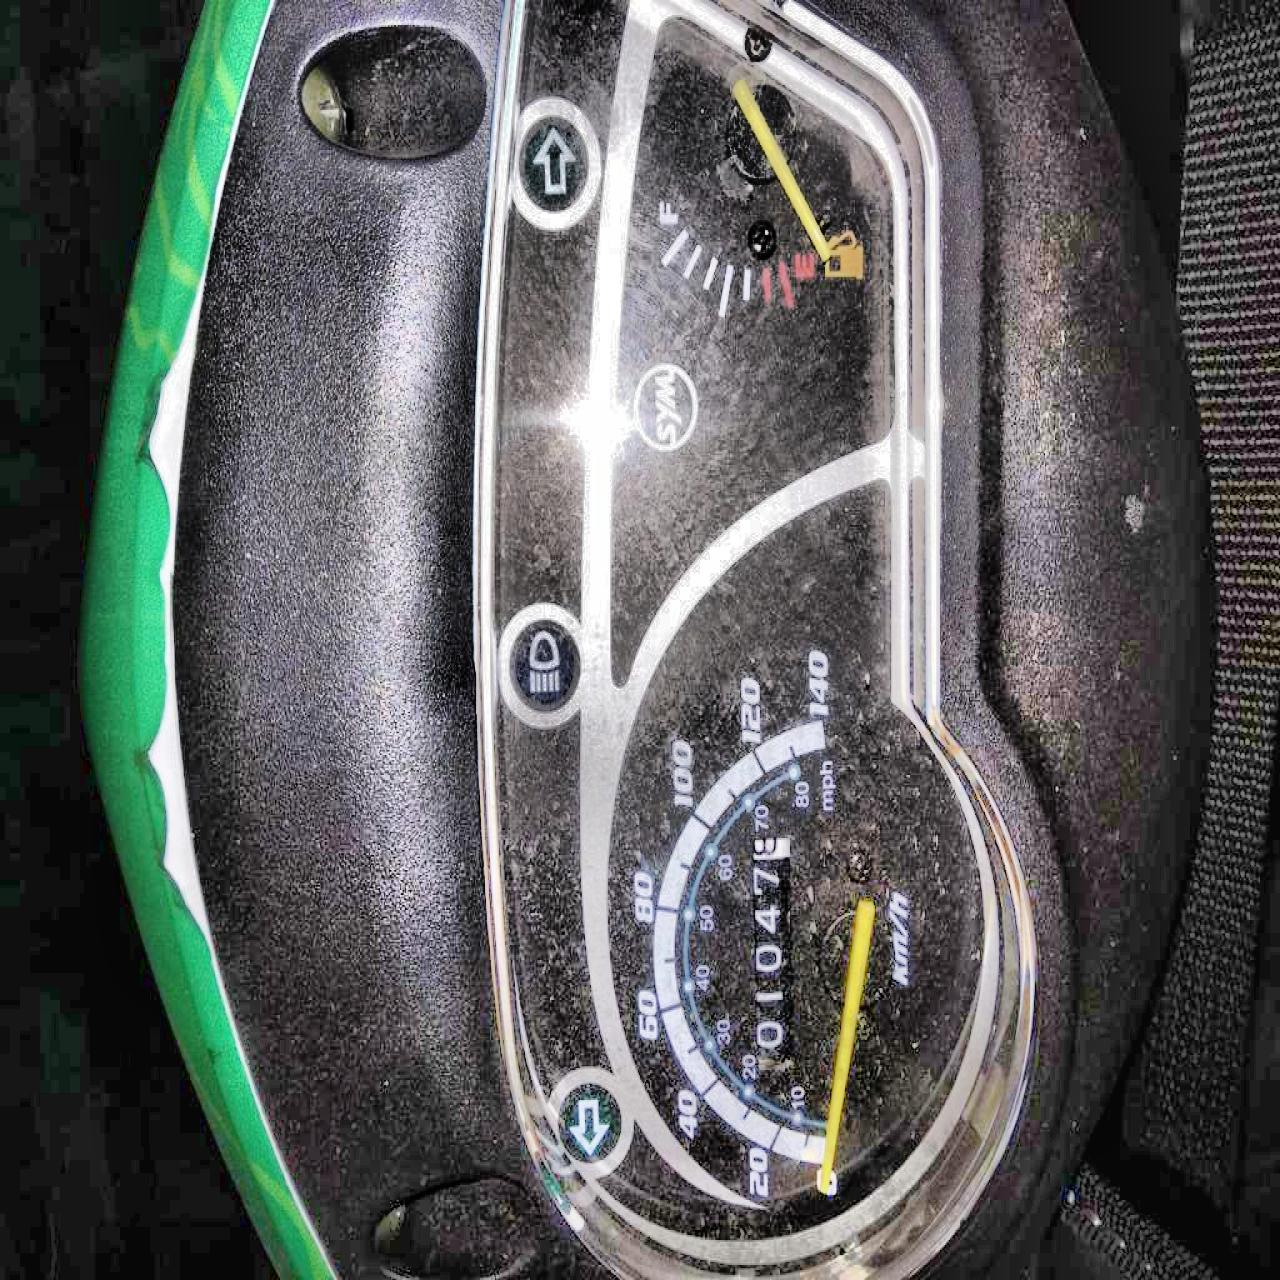0: (751, 938, 783, 972), (753, 1015, 783, 1048), (743, 1050, 755, 1065)
1: (749, 982, 785, 1008)
4: (751, 899, 779, 933)
7: (747, 863, 784, 894)
8: (751, 831, 779, 857)
odometer: (742, 826, 797, 1063)
